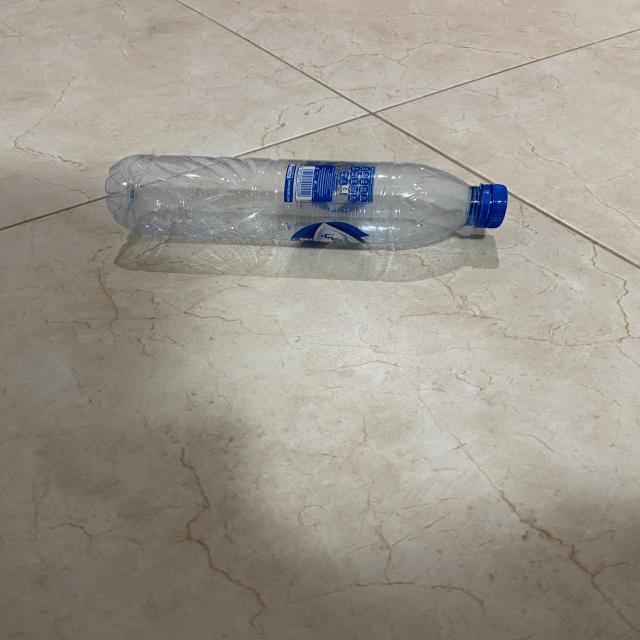plastic bottle: (90, 146, 515, 262)
